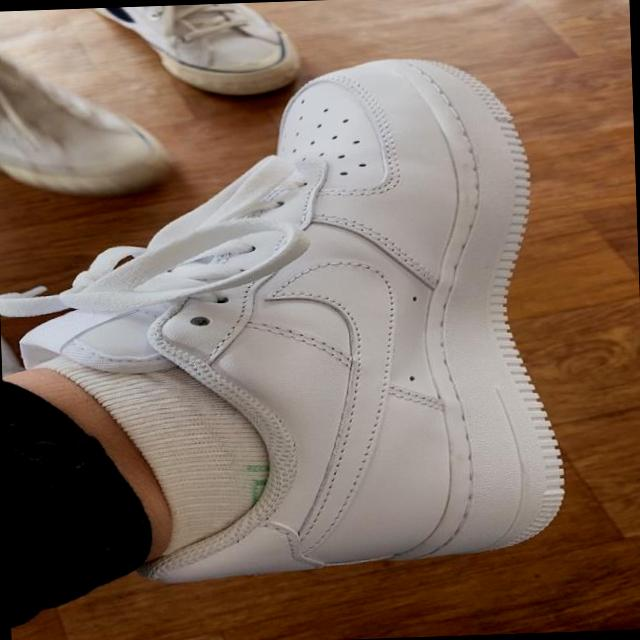nike_original_airforce: (2, 64, 575, 588)
